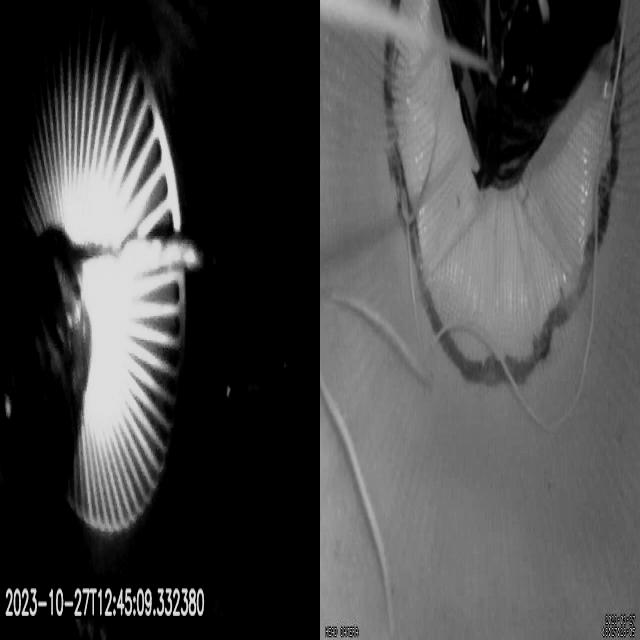red-circle: (382, 0, 625, 387)
